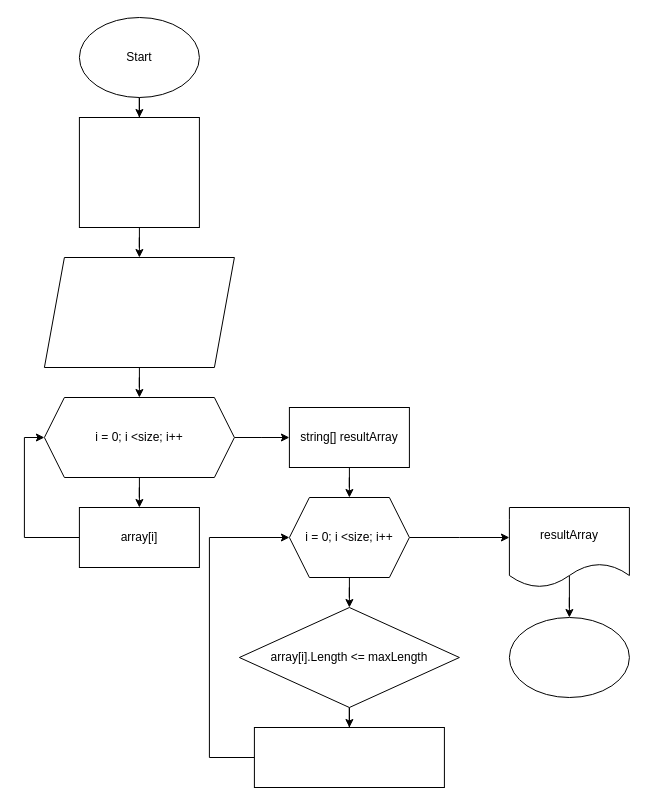
Image size: 647x805. Some labels were removed from this diagram. Each missing label, with the box of its shape:
End: (508, 616, 629, 698)
resultArray[index] = array[i] i++: (253, 726, 444, 788)
size maxLenght array[0] array[1] array[2] array[3]: (43, 256, 234, 368)
size maxLenght string[] array array[0] array[1] array[2] array[3]: (78, 116, 199, 228)
